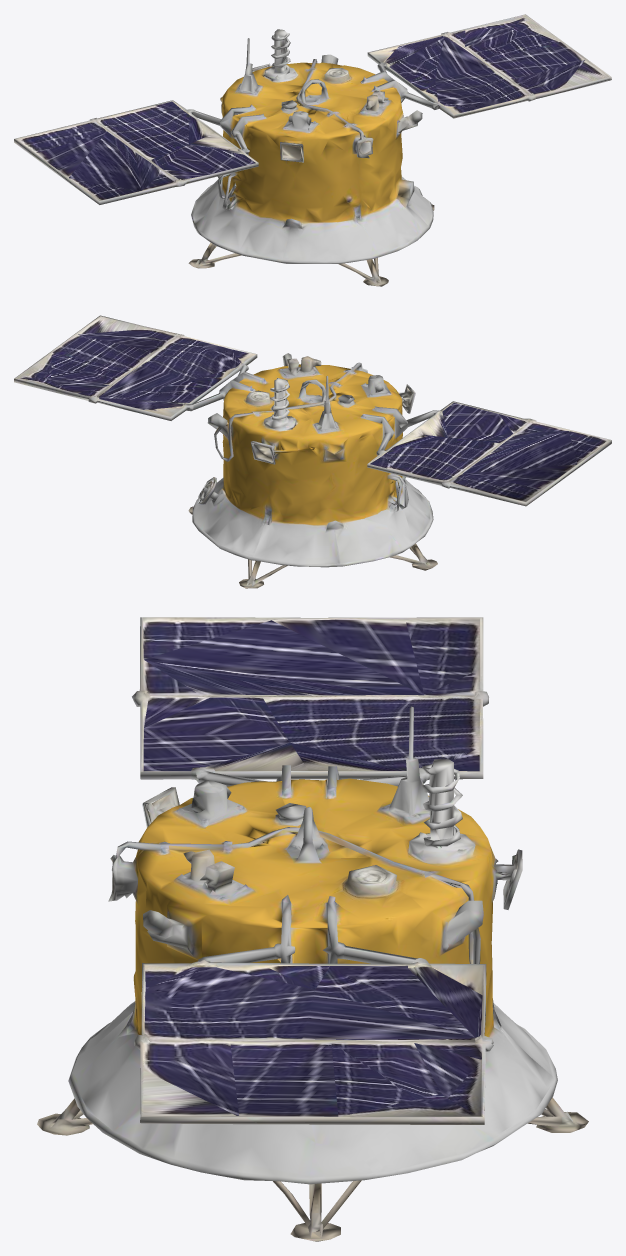
Rendered from seismometer.glb.
The picture shows the model from 3 angles, top to bottom: view 1: azimuth 30°, elevation 25°; view 2: azimuth 150°, elevation 25°; view 3: azimuth 270°, elevation 25°; orthographic projection. The views are drawn at different scales.
Parts seen in each view (by area): view 1: tripo_node_12316f68-b771-4497-bdc2-7c0e937cdb95; view 2: tripo_node_12316f68-b771-4497-bdc2-7c0e937cdb95; view 3: tripo_node_12316f68-b771-4497-bdc2-7c0e937cdb95.
Part boxes in pixels (x1=…): tripo_node_12316f68-b771-4497-bdc2-7c0e937cdb95: x1=14, y1=14, x2=611, y2=286; tripo_node_12316f68-b771-4497-bdc2-7c0e937cdb95: x1=14, y1=315, x2=611, y2=588; tripo_node_12316f68-b771-4497-bdc2-7c0e937cdb95: x1=37, y1=617, x2=588, y2=1241.
Bounding box in the file's own units: 1.6 × 0.5735 × 0.747.
1 material, 1 textured.
